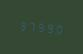nine: (36, 19, 44, 34), (45, 20, 53, 35), (18, 18, 26, 32)
seven: (27, 18, 35, 33)
zero: (54, 21, 62, 35)
